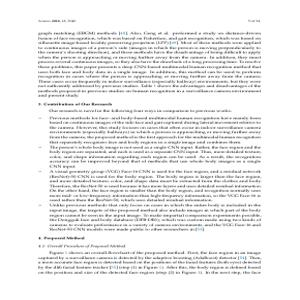text: (38, 32, 261, 278)
